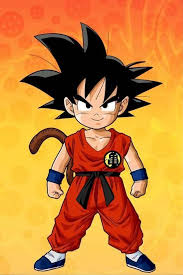Songoku: (64, 59, 130, 131)
